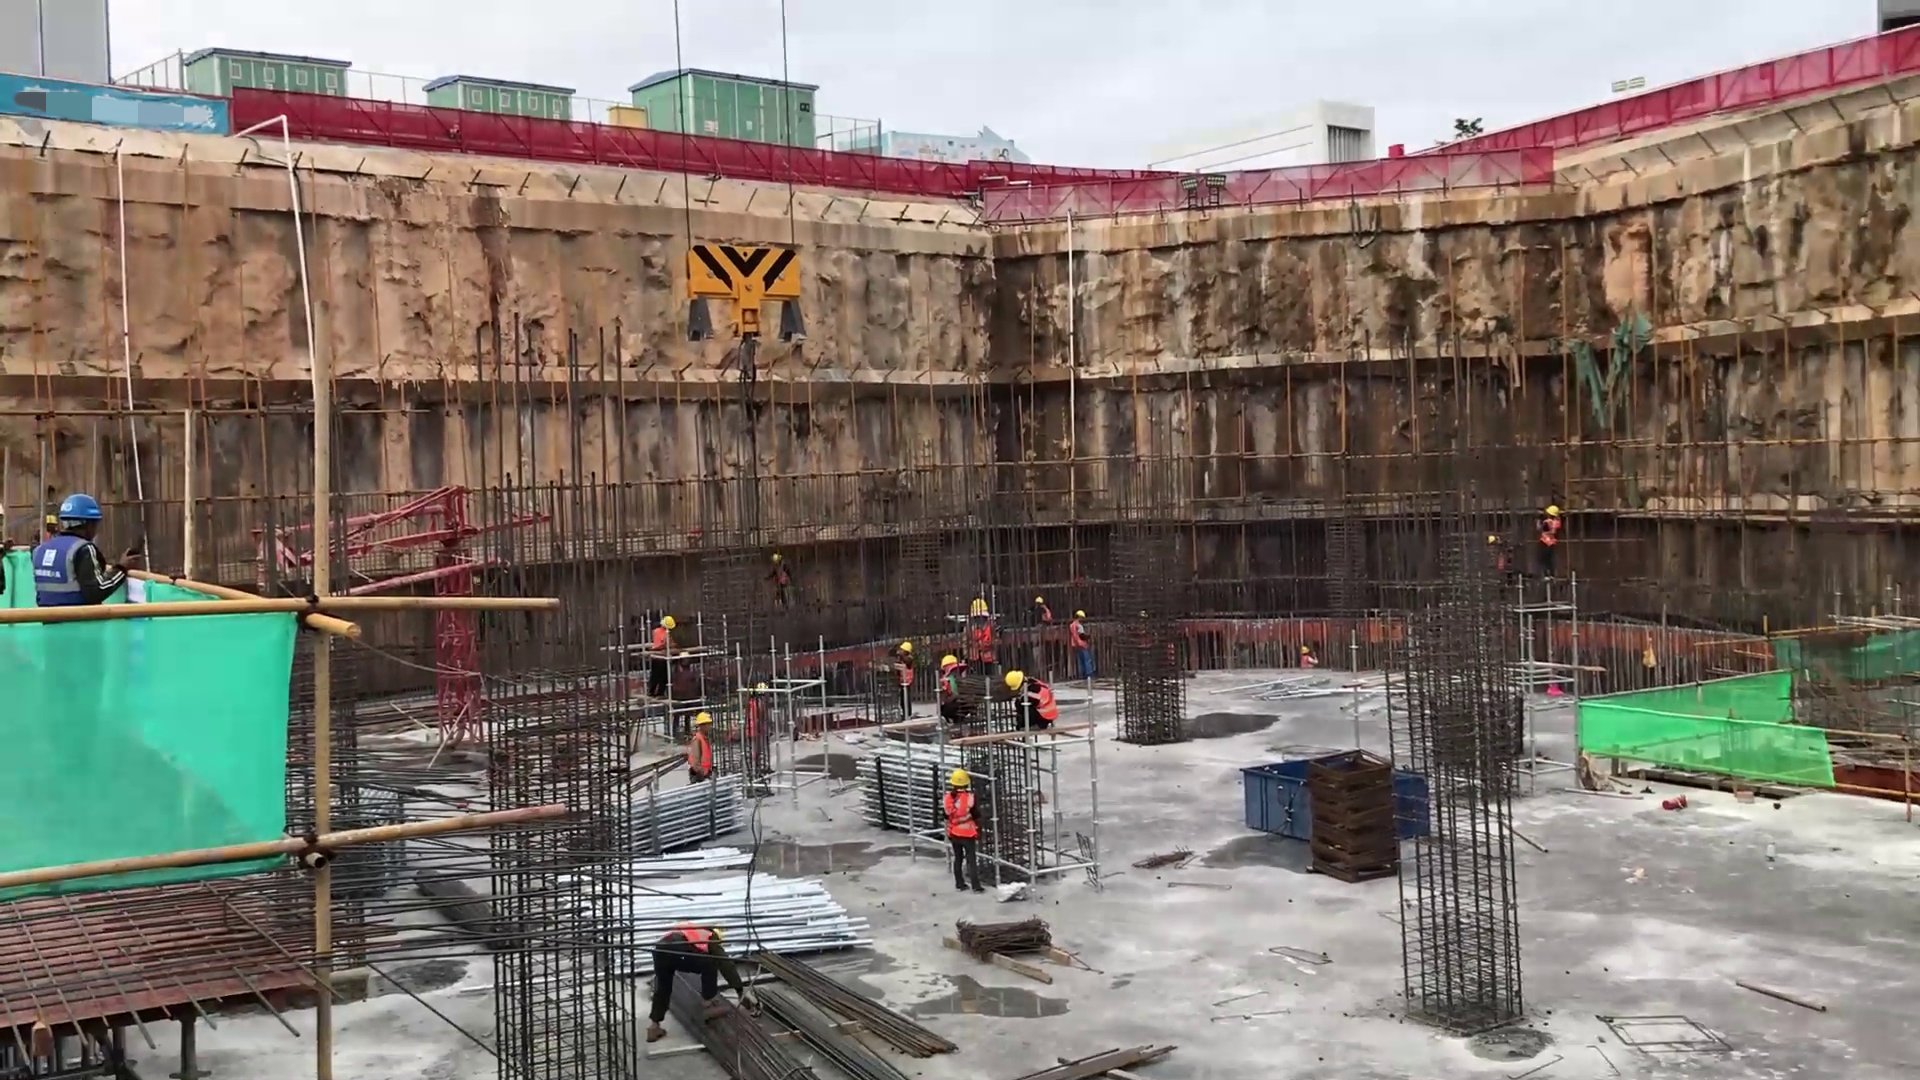ebox: (606, 104, 649, 134)
fence: (243, 90, 493, 151)
helmet: (55, 494, 105, 520), (1006, 669, 1025, 694), (967, 599, 988, 619), (692, 710, 715, 728), (660, 616, 680, 628), (941, 653, 957, 669), (1545, 505, 1559, 519), (898, 642, 912, 653)
hook: (678, 235, 810, 397)
person: (33, 492, 144, 607), (1005, 669, 1060, 729), (937, 769, 987, 838), (935, 655, 976, 719), (965, 600, 1003, 665), (688, 712, 721, 780), (647, 613, 691, 660), (896, 637, 920, 716), (768, 549, 797, 615), (1539, 503, 1563, 577), (1069, 608, 1093, 678), (1034, 594, 1052, 625), (1298, 646, 1320, 670)
rebar: (755, 948, 952, 1080), (1026, 1044, 1179, 1080), (952, 916, 1055, 959)
scaffold: (725, 859, 889, 960), (860, 739, 947, 839), (619, 785, 747, 850)
slogan: (1, 81, 237, 149)
vest: (34, 535, 102, 605), (1025, 678, 1057, 725), (969, 620, 1001, 663), (690, 733, 718, 779), (647, 626, 680, 654), (943, 789, 974, 813), (1540, 517, 1561, 550), (1072, 620, 1088, 653), (898, 662, 919, 685)
